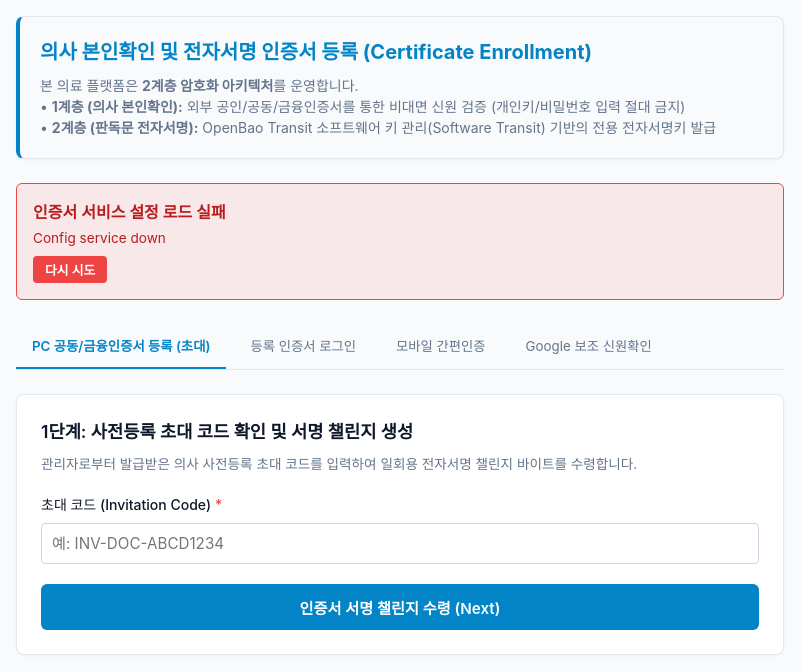
Test: Definitive Certificate Enrollment HTTP Contract Tests › 1. GET /v1/certificate-enrollment/config: enforces nested pcCertificate and blocks flow on config error without fake fallback
Expected: the element with test id "cert-config-error" is shown, [16,183,784,300]
// Clicking retry fetches config again and clears error
Click the button with test id "cert-config-retry-btn": (70, 270) [33,256,107,283]
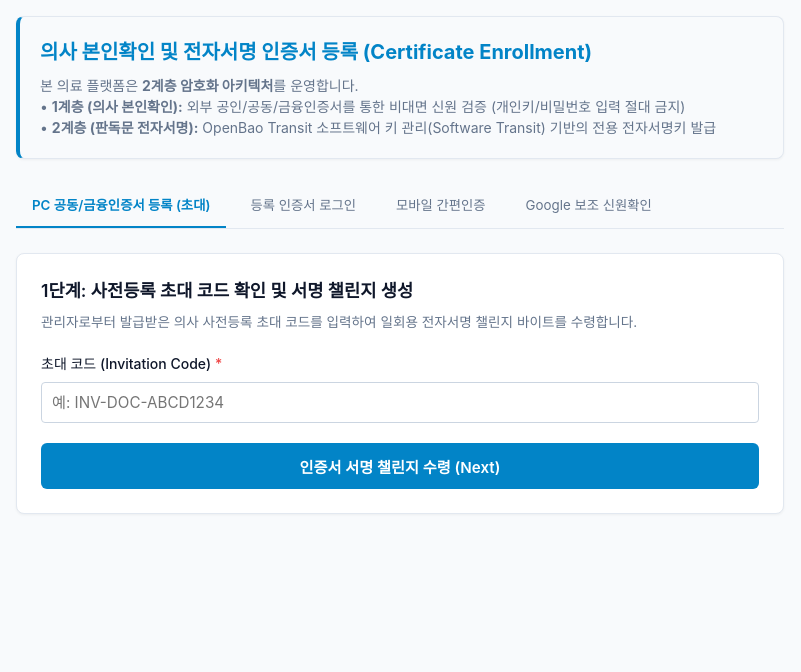
Expected: the element with test id "cert-architecture-banner" is shown, [16,16,784,159]
Expected: the element with test id "cert-config-error" is gone
